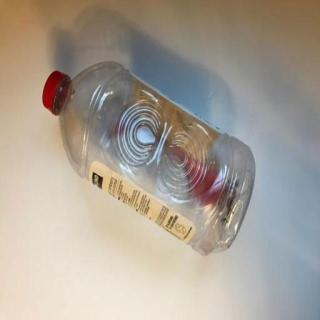Plastic-bottle: (43, 60, 257, 257)
